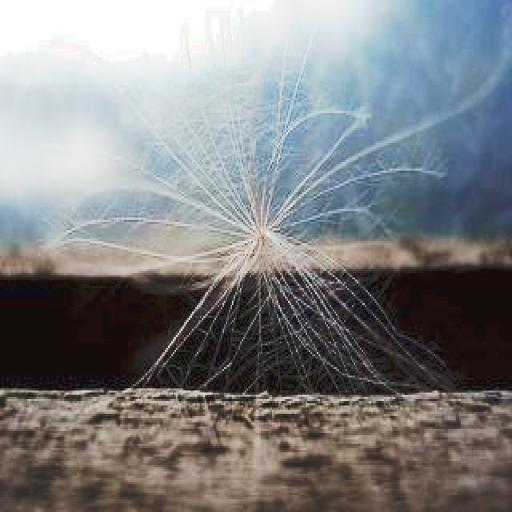dandelion: (1, 0, 511, 505)
